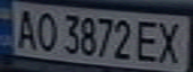2: (112, 16, 136, 62)
3: (57, 11, 81, 56)
7: (93, 15, 115, 58)
8: (78, 12, 96, 57)
A: (9, 6, 39, 51)
E: (133, 17, 163, 63)
O: (30, 8, 60, 53)
X: (154, 18, 190, 65)
